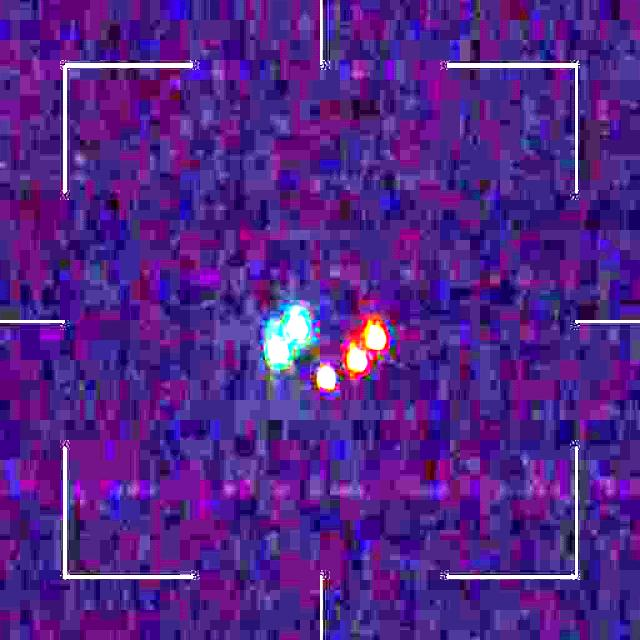bird: (265, 308, 389, 390)
